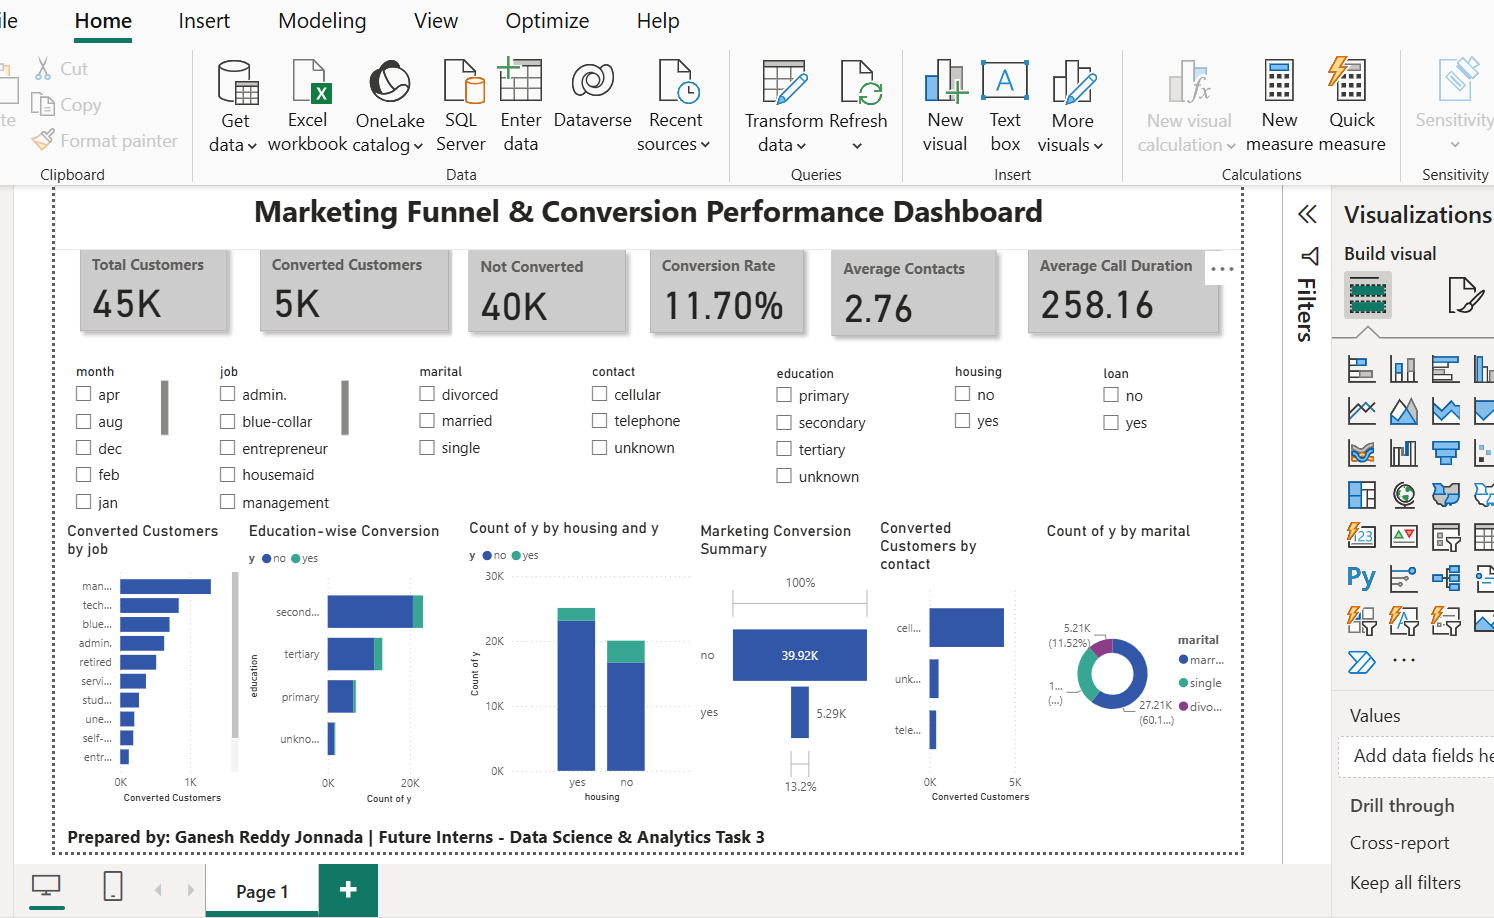

What the dashboard file says about the page in this screenshot:
{"tool":"powerbi","page":{"name":"Page 1","canvas":[1280,720],"ordinal":0},"visuals":[{"type":"cardVisual","fields":{"Data":["Marketing_Data.Total Customers"]},"box":[9.1,48.9,193.8,126.8],"z":0},{"type":"cardVisual","fields":{"Data":["Marketing_Data.Converted Customers"]},"box":[203.4,49.1,238,127],"z":1000},{"type":"cardVisual","fields":{"Data":["Marketing_Data.Not Converted"]},"box":[428.5,53.4,204.9,122.6],"z":2000},{"type":"cardVisual","fields":{"Data":["Marketing_Data.Conversion Rate"]},"box":[624.7,50.5,200.5,127],"z":3000},{"type":"cardVisual","fields":{"Data":["Marketing_Data.Average Call Duration"]},"box":[1032.9,49.1,240.9,128.4],"z":4000},{"type":"cardVisual","fields":{"Data":["Marketing_Data.Average Contacts"]},"box":[820.9,53.4,212.1,127],"z":5000},{"type":"funnel","title":"Marketing Conversion Summary","fields":{"Category":["Marketing_Data.y"],"Y":["CountNonNull(Marketing_Data.y)"]},"box":[691,362.1,194.8,308.7],"z":6000},{"type":"clusteredBarChart","fields":{"Category":["Marketing_Data.job"],"Y":["Marketing_Data.Converted Customers"]},"box":[8.7,362.1,194.8,308.7],"z":7000},{"type":"barChart","title":"Education-wise Conversion","fields":{"Category":["Marketing_Data.education"],"Series":["Marketing_Data.y"],"Y":["CountNonNull(Marketing_Data.y)"]},"box":[203.4,362.1,238,310.2],"z":8000},{"type":"donutChart","fields":{"Category":["Marketing_Data.marital"],"Y":["CountNonNull(Marketing_Data.y)"]},"box":[1066.1,362.1,213.5,308.7],"z":9000},{"type":"columnChart","fields":{"Category":["Marketing_Data.housing"],"Series":["Marketing_Data.y"],"Y":["CountNonNull(Marketing_Data.y)"]},"box":[441.5,359.2,249.6,311.6],"z":10000},{"type":"clusteredBarChart","fields":{"Category":["Marketing_Data.contact"],"Y":["Marketing_Data.Converted Customers"]},"box":[885.8,359.2,180.3,311.6],"z":11000},{"type":"slicer","fields":{"Values":["Marketing_Data.month"]},"box":[9.1,188.4,117.7,172.1],"z":12000},{"type":"slicer","fields":{"Values":["Marketing_Data.job"]},"box":[165.9,187.5,157.2,171.7],"z":13000},{"type":"slicer","fields":{"Values":["Marketing_Data.education"]},"box":[766.1,189,161.6,171.7],"z":14000},{"type":"slicer","fields":{"Values":["Marketing_Data.marital"]},"box":[380.9,187.5,150,171.7],"z":15000},{"type":"slicer","fields":{"Values":["Marketing_Data.contact"]},"box":[567,187.5,145.7,171.7],"z":16000},{"type":"slicer","fields":{"Values":["Marketing_Data.housing"]},"box":[957.9,187.5,129.8,171.7],"z":17000},{"type":"slicer","fields":{"Values":["Marketing_Data.loan"]},"box":[1119.3,190.2,153.9,170.2],"z":18000},{"type":"textbox","box":[0,0,1281.1,69.2],"z":19000},{"type":"textbox","box":[8.7,685.3,913.2,34.6],"z":20000}]}

Visuals, with their boxes on the page's 1280x720 design canvas (x1, y1, x2, y2). These are canvas units, not pixel positions in the 1494x918 screenshot, which may show the page scaled, cropped or inside an application window:
cardVisual - Marketing_Data.Total Customers: 9:49:203:176
cardVisual - Marketing_Data.Converted Customers: 203:49:441:176
cardVisual - Marketing_Data.Not Converted: 428:53:633:176
cardVisual - Marketing_Data.Conversion Rate: 625:50:825:178
cardVisual - Marketing_Data.Average Call Duration: 1033:49:1274:178
cardVisual - Marketing_Data.Average Contacts: 821:53:1033:180
"Marketing Conversion Summary" funnel: 691:362:886:671
clusteredBarChart - Marketing_Data.job x Marketing_Data.Converted Customers: 9:362:204:671
"Education-wise Conversion" barChart: 203:362:441:672
donutChart - Marketing_Data.marital x CountNonNull(Marketing_Data.y): 1066:362:1280:671
columnChart - Marketing_Data.housing x Marketing_Data.y: 442:359:691:671
clusteredBarChart - Marketing_Data.contact x Marketing_Data.Converted Customers: 886:359:1066:671
slicer - Marketing_Data.month: 9:188:127:360
slicer - Marketing_Data.job: 166:188:323:359
slicer - Marketing_Data.education: 766:189:928:361
slicer - Marketing_Data.marital: 381:188:531:359
slicer - Marketing_Data.contact: 567:188:713:359
slicer - Marketing_Data.housing: 958:188:1088:359
slicer - Marketing_Data.loan: 1119:190:1273:360
textbox: 0:0:1281:69
textbox: 9:685:922:720
